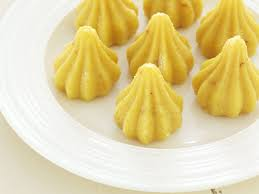modak: (188, 29, 259, 110), (51, 25, 122, 102), (116, 64, 183, 143), (137, 12, 199, 80), (196, 1, 259, 61), (69, 1, 144, 44), (138, 1, 207, 28)
